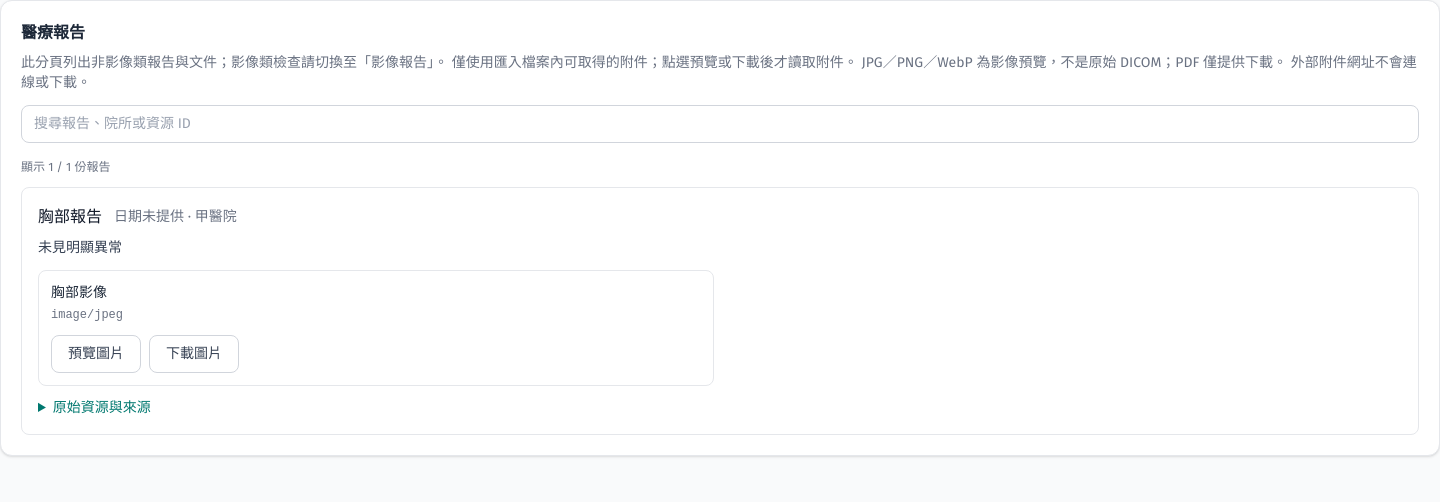
Test case: MedicalReportList attachments › rejects a returned text/html Blob for a declared JPEG
Click the button with aria-label "胸部影像：預覽圖片": click(96, 354) [51, 335, 141, 373]
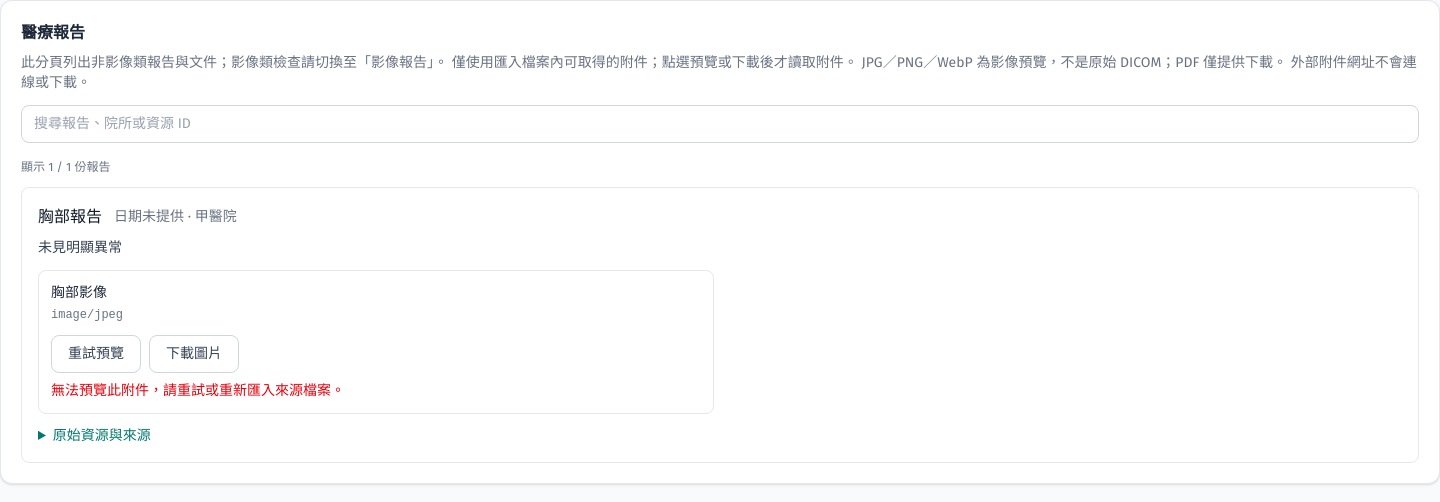
Result: the message "無法預覽此附件，請重試或重新匯入來源檔案。" is shown at [51, 382, 345, 399]
